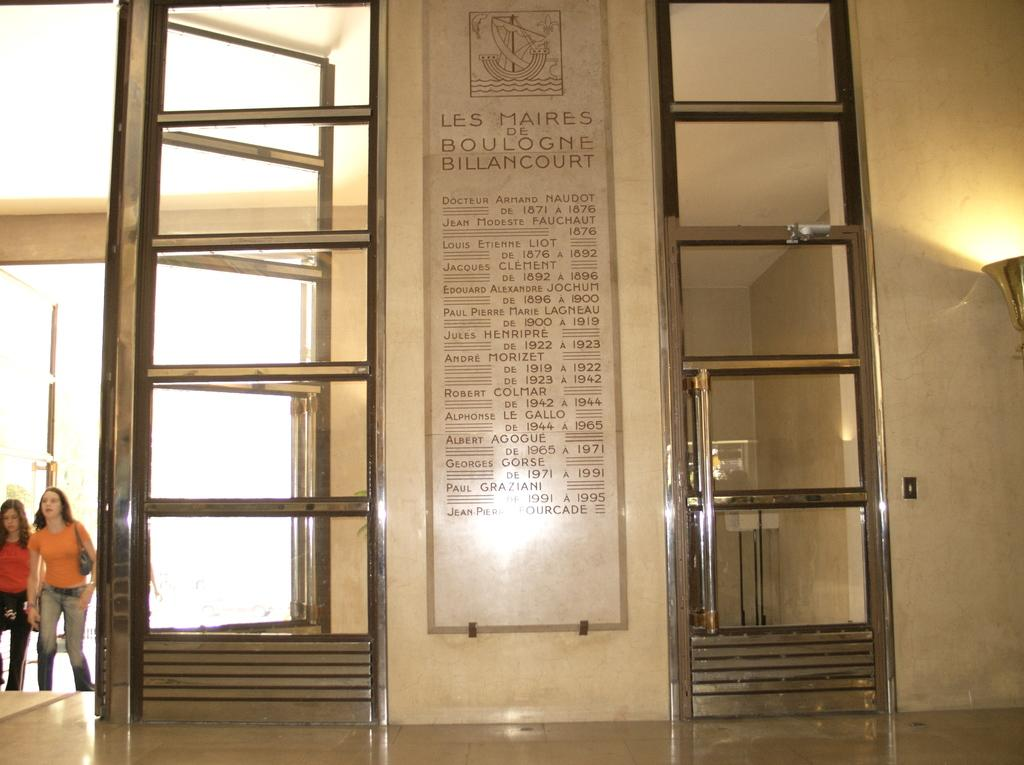handle: (688, 360, 730, 629)
